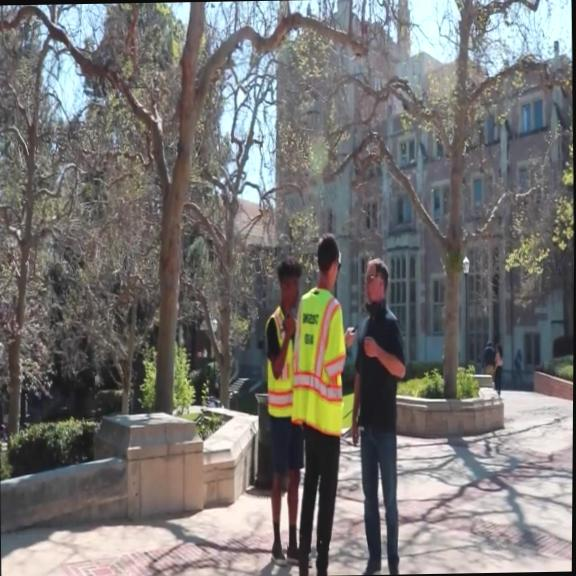safety_vest: (288, 288, 350, 437), (264, 308, 299, 418)
